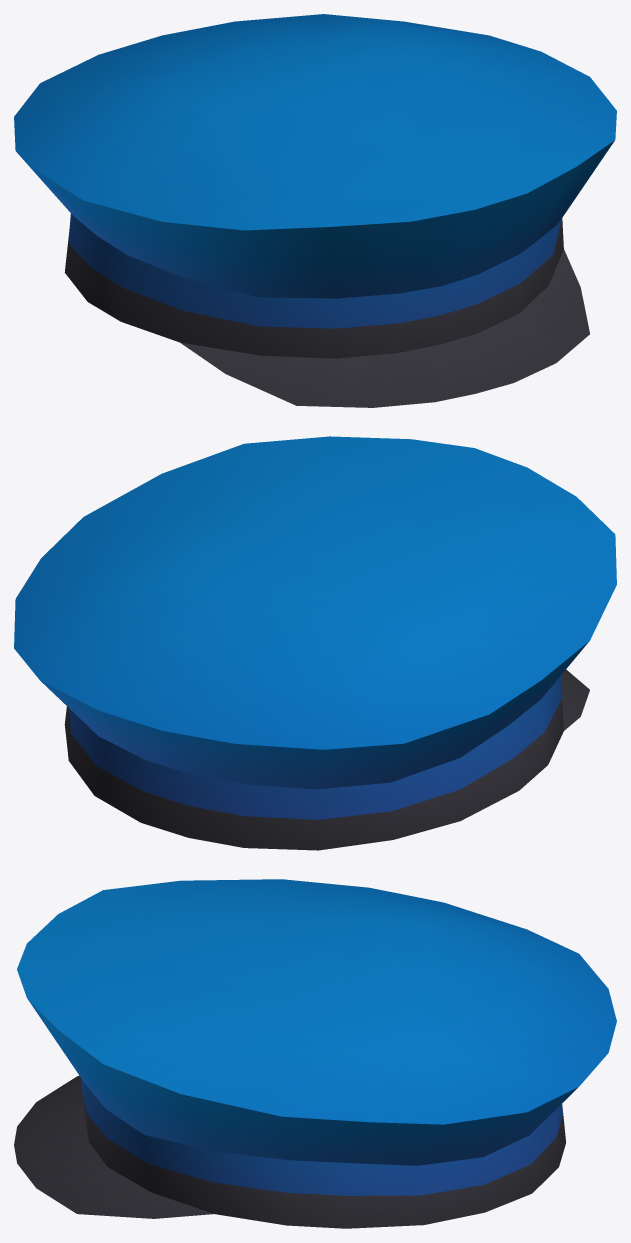
The model's file is pistol_Hat.fbx.
The picture shows the model from 3 angles, top to bottom: view 1: azimuth 30°, elevation 25°; view 2: azimuth 150°, elevation 25°; view 3: azimuth 270°, elevation 25°; orthographic projection. The views are drawn at different scales.
Visible parts, largest first — view 1: Stickman_heads_sphere.002; view 2: Stickman_heads_sphere.002; view 3: Stickman_heads_sphere.002.
Boxes of the visible parts, x1,y1,x2,y2 form: Stickman_heads_sphere.002: [14, 14, 616, 407]; Stickman_heads_sphere.002: [14, 436, 616, 850]; Stickman_heads_sphere.002: [14, 879, 616, 1228].
Size of the model in its own units: 0.7349 by 0.2782 by 0.7886.
Materials: 1 (1 with a texture image).
